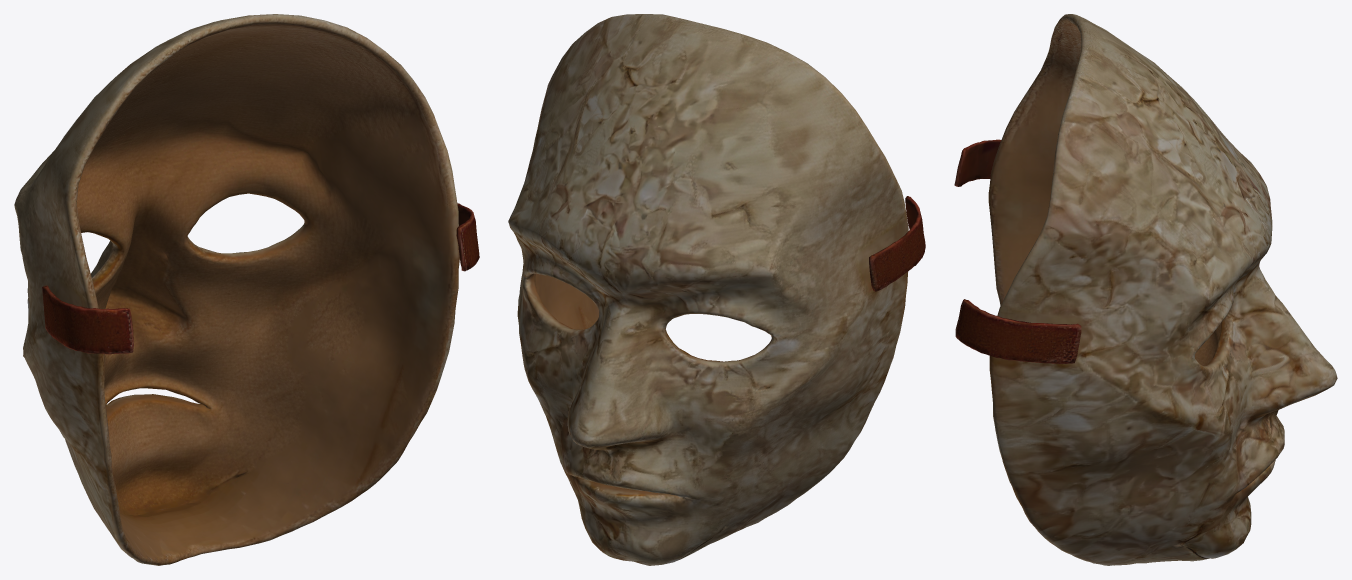
The model's file is theme-performer-mask-v05.glb.
3 views of the same model, side by side, from view 1: azimuth 30°, elevation 25°; view 2: azimuth 150°, elevation 25°; view 3: azimuth 270°, elevation 25° (orthographic). The views are drawn at different scales.
Parts seen in each view (by area): view 1: tripo_node_972aae77-3655-4463-ba12-876f086c4fb1; view 2: tripo_node_972aae77-3655-4463-ba12-876f086c4fb1; view 3: tripo_node_972aae77-3655-4463-ba12-876f086c4fb1.
Boxes of the visible parts, x1,y1,x2,y2 form: tripo_node_972aae77-3655-4463-ba12-876f086c4fb1: (14, 14, 479, 565); tripo_node_972aae77-3655-4463-ba12-876f086c4fb1: (508, 14, 925, 565); tripo_node_972aae77-3655-4463-ba12-876f086c4fb1: (954, 14, 1337, 565).
Bounding box in the file's own units: 0.2678 × 0.35 × 0.2377.
1 material, 1 textured.
